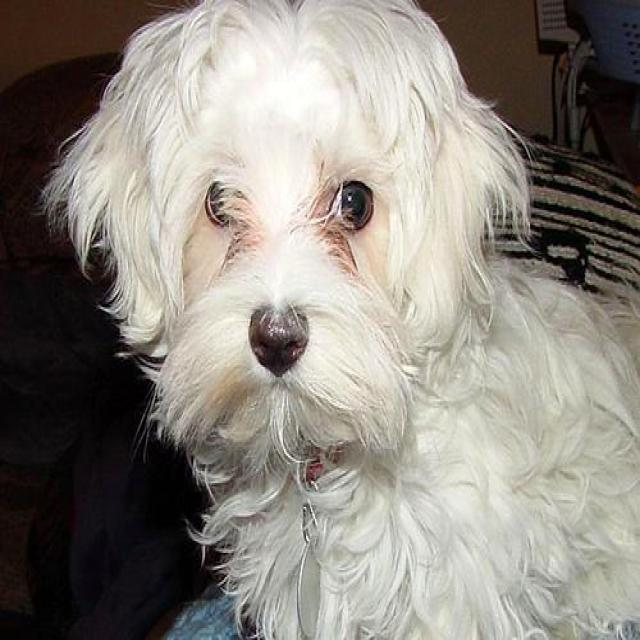maltese_dog: (35, 1, 638, 636)
